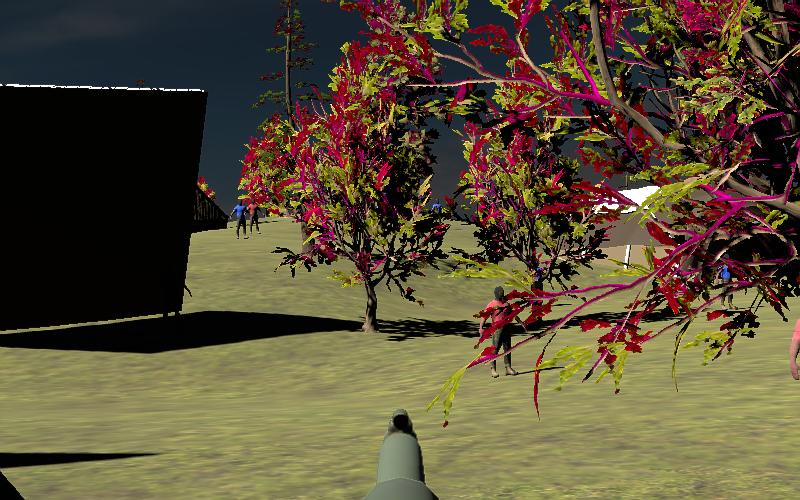Human: (476, 285, 525, 378), (789, 299, 800, 398), (231, 198, 250, 240)
